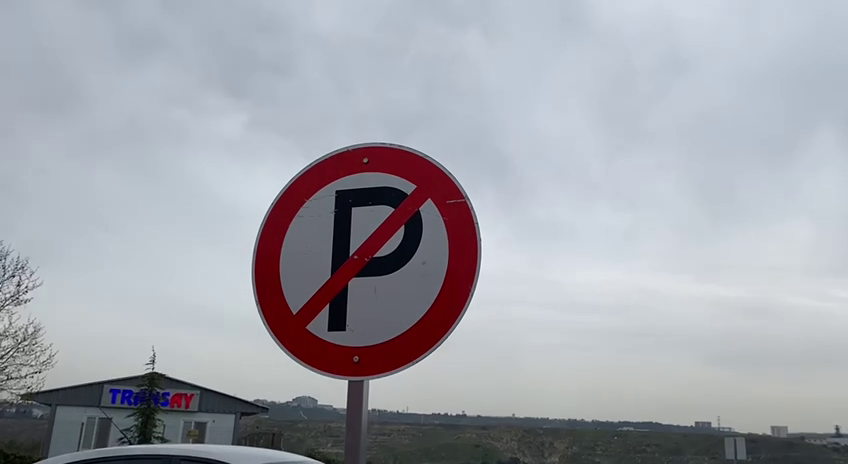noparking: (246, 139, 488, 382)
